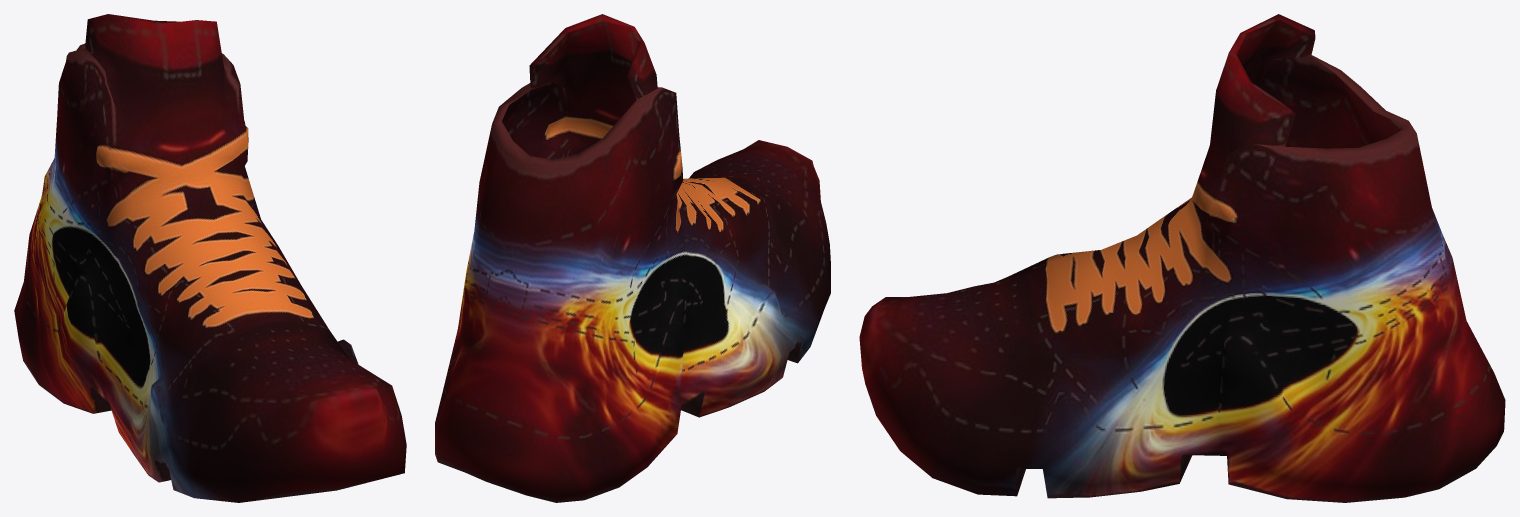
Rendered from Shoes9_R.fbx.
The picture shows the model from 3 angles, left to right: view 1: azimuth 30°, elevation 25°; view 2: azimuth 150°, elevation 25°; view 3: azimuth 270°, elevation 25°; orthographic projection. The views are drawn at different scales.
Parts seen in each view (by area): view 1: avaturn_shoes_0.001; view 2: avaturn_shoes_0.001; view 3: avaturn_shoes_0.001.
Part boxes in pixels (bbox=[...]): avaturn_shoes_0.001: bbox=[14, 14, 406, 502]; avaturn_shoes_0.001: bbox=[435, 14, 830, 502]; avaturn_shoes_0.001: bbox=[859, 14, 1505, 502].
Size of the model in its own units: 10.93 by 20.4 by 28.14.
1 material, 1 textured.
